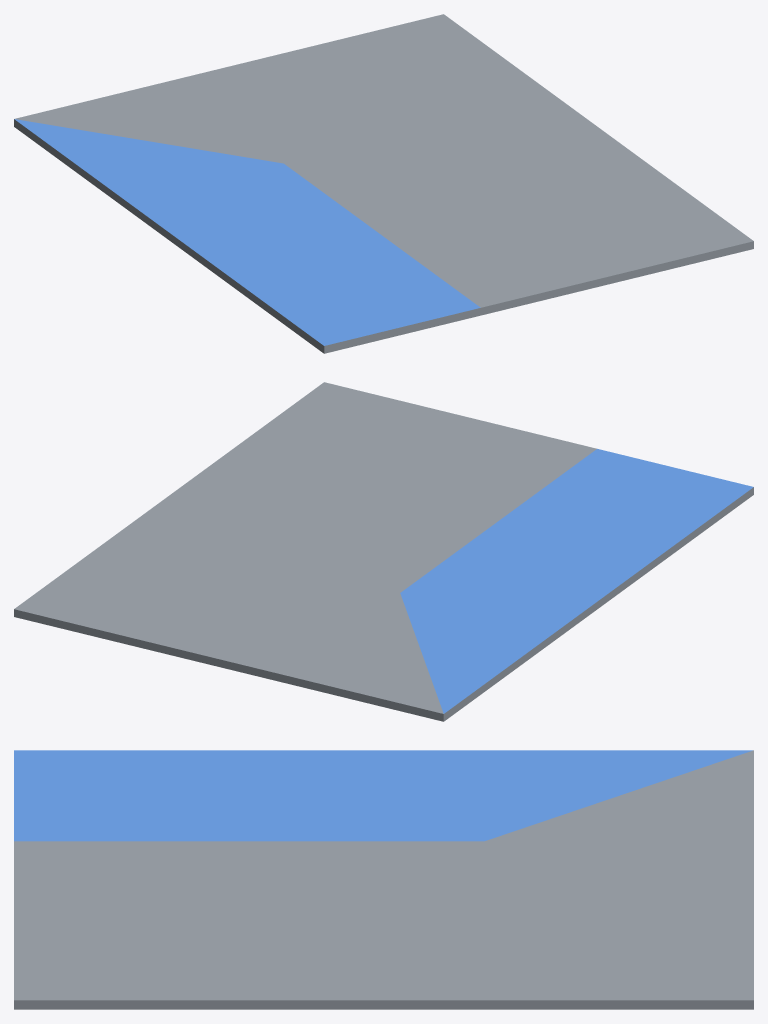
The model's file is veyran_shipyard_foundation.glb.
3 views of the same model, one above another, from view 1: azimuth 30°, elevation 25°; view 2: azimuth 150°, elevation 25°; view 3: azimuth 270°, elevation 25° (orthographic). The views are drawn at different scales.
Parts seen in each view (by area): view 1: hull; view 2: hull; view 3: hull.
Boxes of the visible parts, x1=… form: hull: x1=14, y1=14, x2=753, y2=353; hull: x1=14, y1=382, x2=753, y2=721; hull: x1=14, y1=750, x2=753, y2=1009.
Size of the model in its own units: 14.4 by 0.25 by 18.
